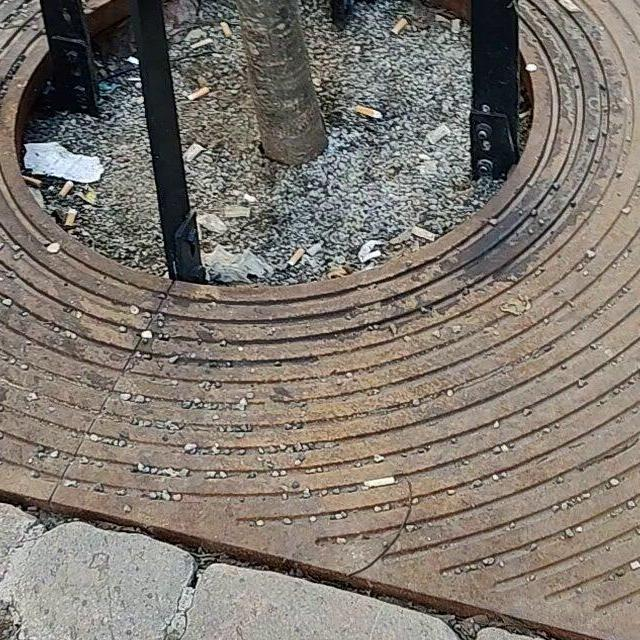Cigarette Butt: (59, 179, 73, 200), (187, 89, 209, 102), (357, 104, 379, 117), (391, 16, 406, 35), (66, 206, 77, 231), (289, 249, 302, 269), (23, 177, 42, 188), (221, 20, 231, 38)
